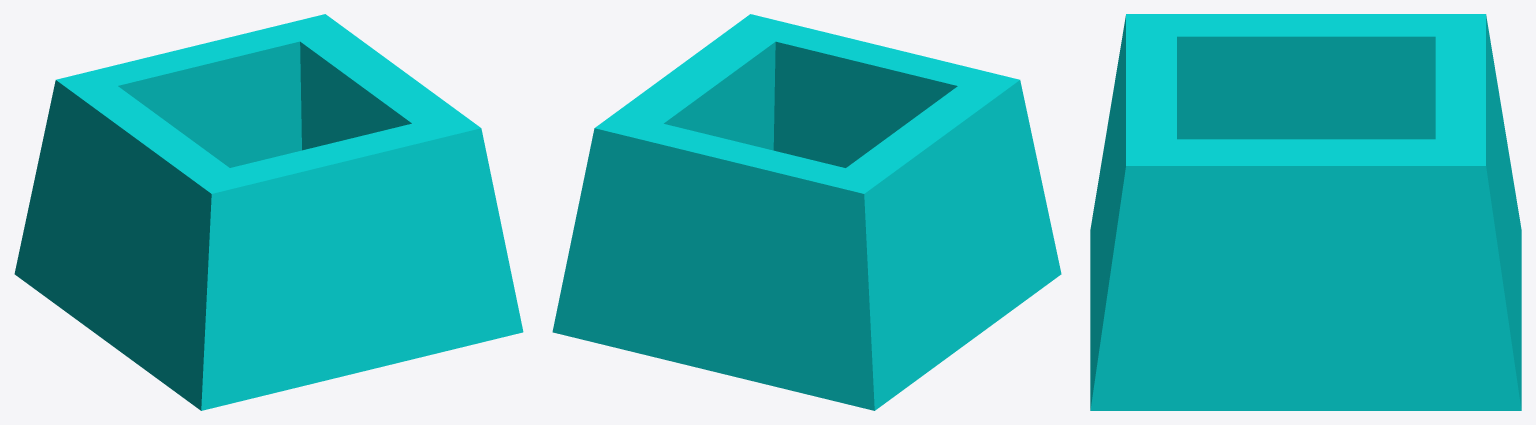
Rendered from SM_Prop_Well_02_Collision.fbx.
3 renders of one model, left to right at view 1: azimuth 30°, elevation 25°; view 2: azimuth 150°, elevation 25°; view 3: azimuth 270°, elevation 25°, orthographic. The views are drawn at different scales.
Parts seen in each view (by area): view 1: SM_Prop_Well_02_Collision; view 2: SM_Prop_Well_02_Collision; view 3: SM_Prop_Well_02_Collision.
Part boxes in pixels (box(x1,y1,x2,y2)): SM_Prop_Well_02_Collision: box(14, 14, 523, 410); SM_Prop_Well_02_Collision: box(552, 14, 1061, 410); SM_Prop_Well_02_Collision: box(1090, 14, 1521, 410).
Size of the model in its own units: 144 by 85.05 by 144.
